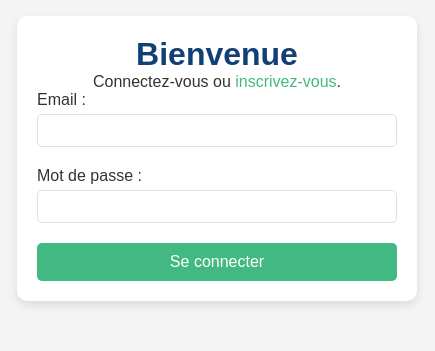
Scenario: Hospital App - Login and Search Tests › should display an error for invalid login
Type "wronguser@example.com" into the field with id "email". click: (217, 131)
box: 37,114 -> 397,147
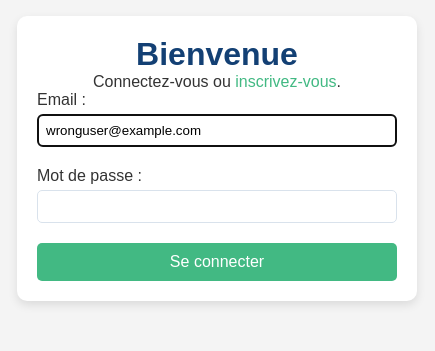
Type "wrongpassword" into the password field labelled "Mot de passe :". click: (217, 207)
box: 37,190 -> 397,223
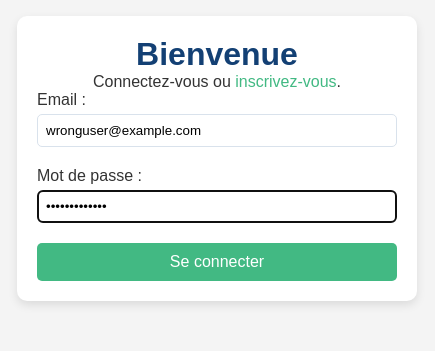
Click the submit button. click: (217, 262)
box: 37,243 -> 397,281
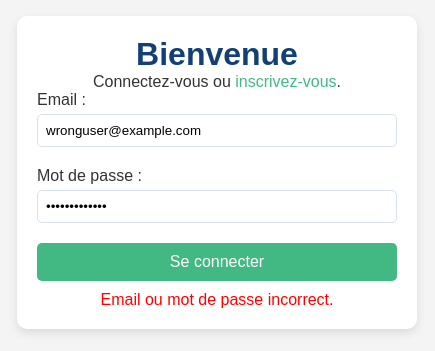
Check: the text "Email ou mot de passe incorrect." is shown, box 100,291 -> 334,308
